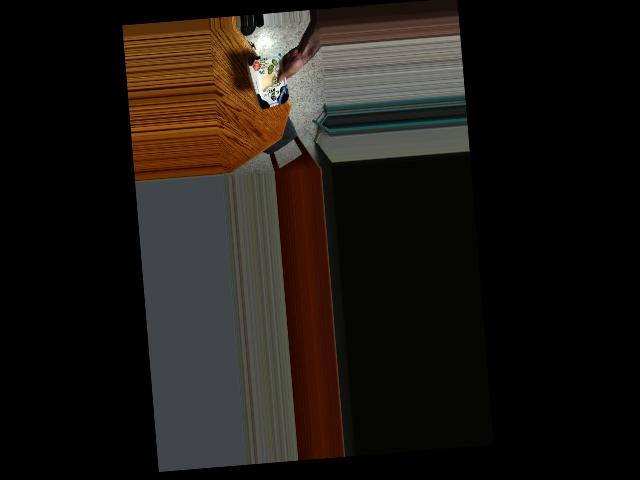cheese: (249, 59, 296, 106)
